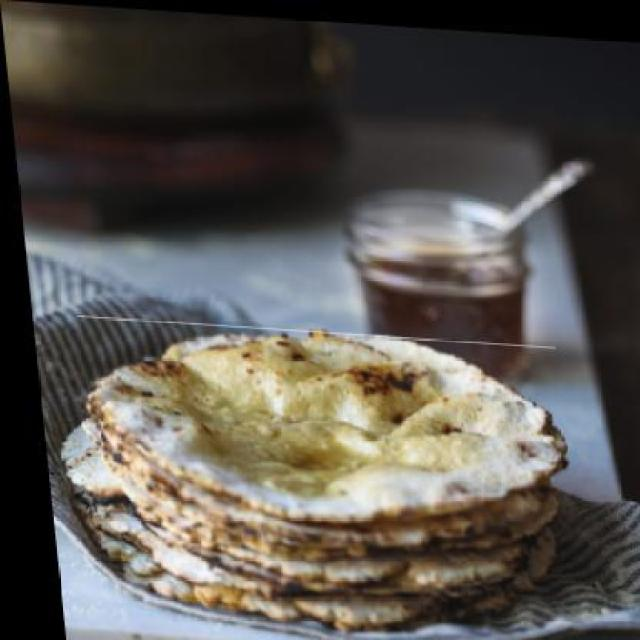chapati: (70, 314, 565, 532)
